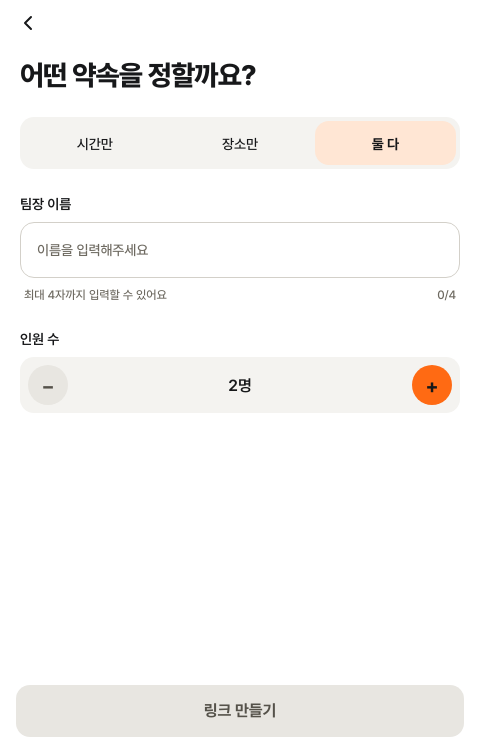
Test case: 제목, 이름 입력, 주 버튼 문구
Check: the heading reads "어떤 약속을 정할까요?", box [20, 58, 256, 92]
Check: the button "링크 만들기" is disabled, box [16, 685, 464, 737]
In the field labelled "팀장 이름": (240, 250) [20, 222, 460, 278], type "현호"
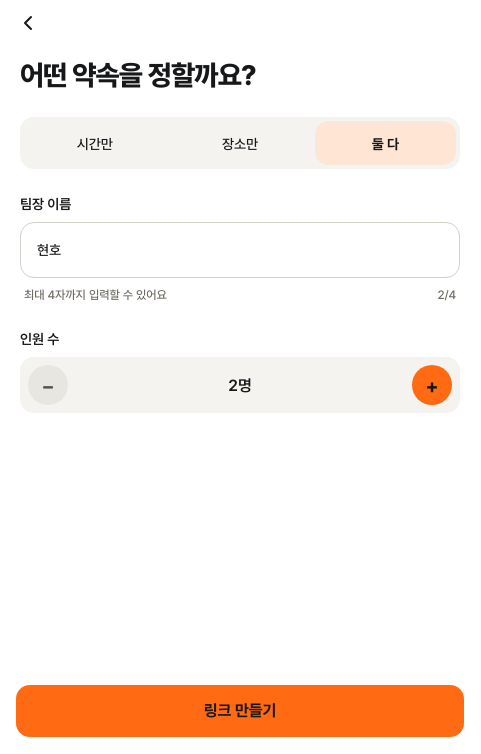
Check: the button "링크 만들기" is enabled, box [16, 685, 464, 737]
